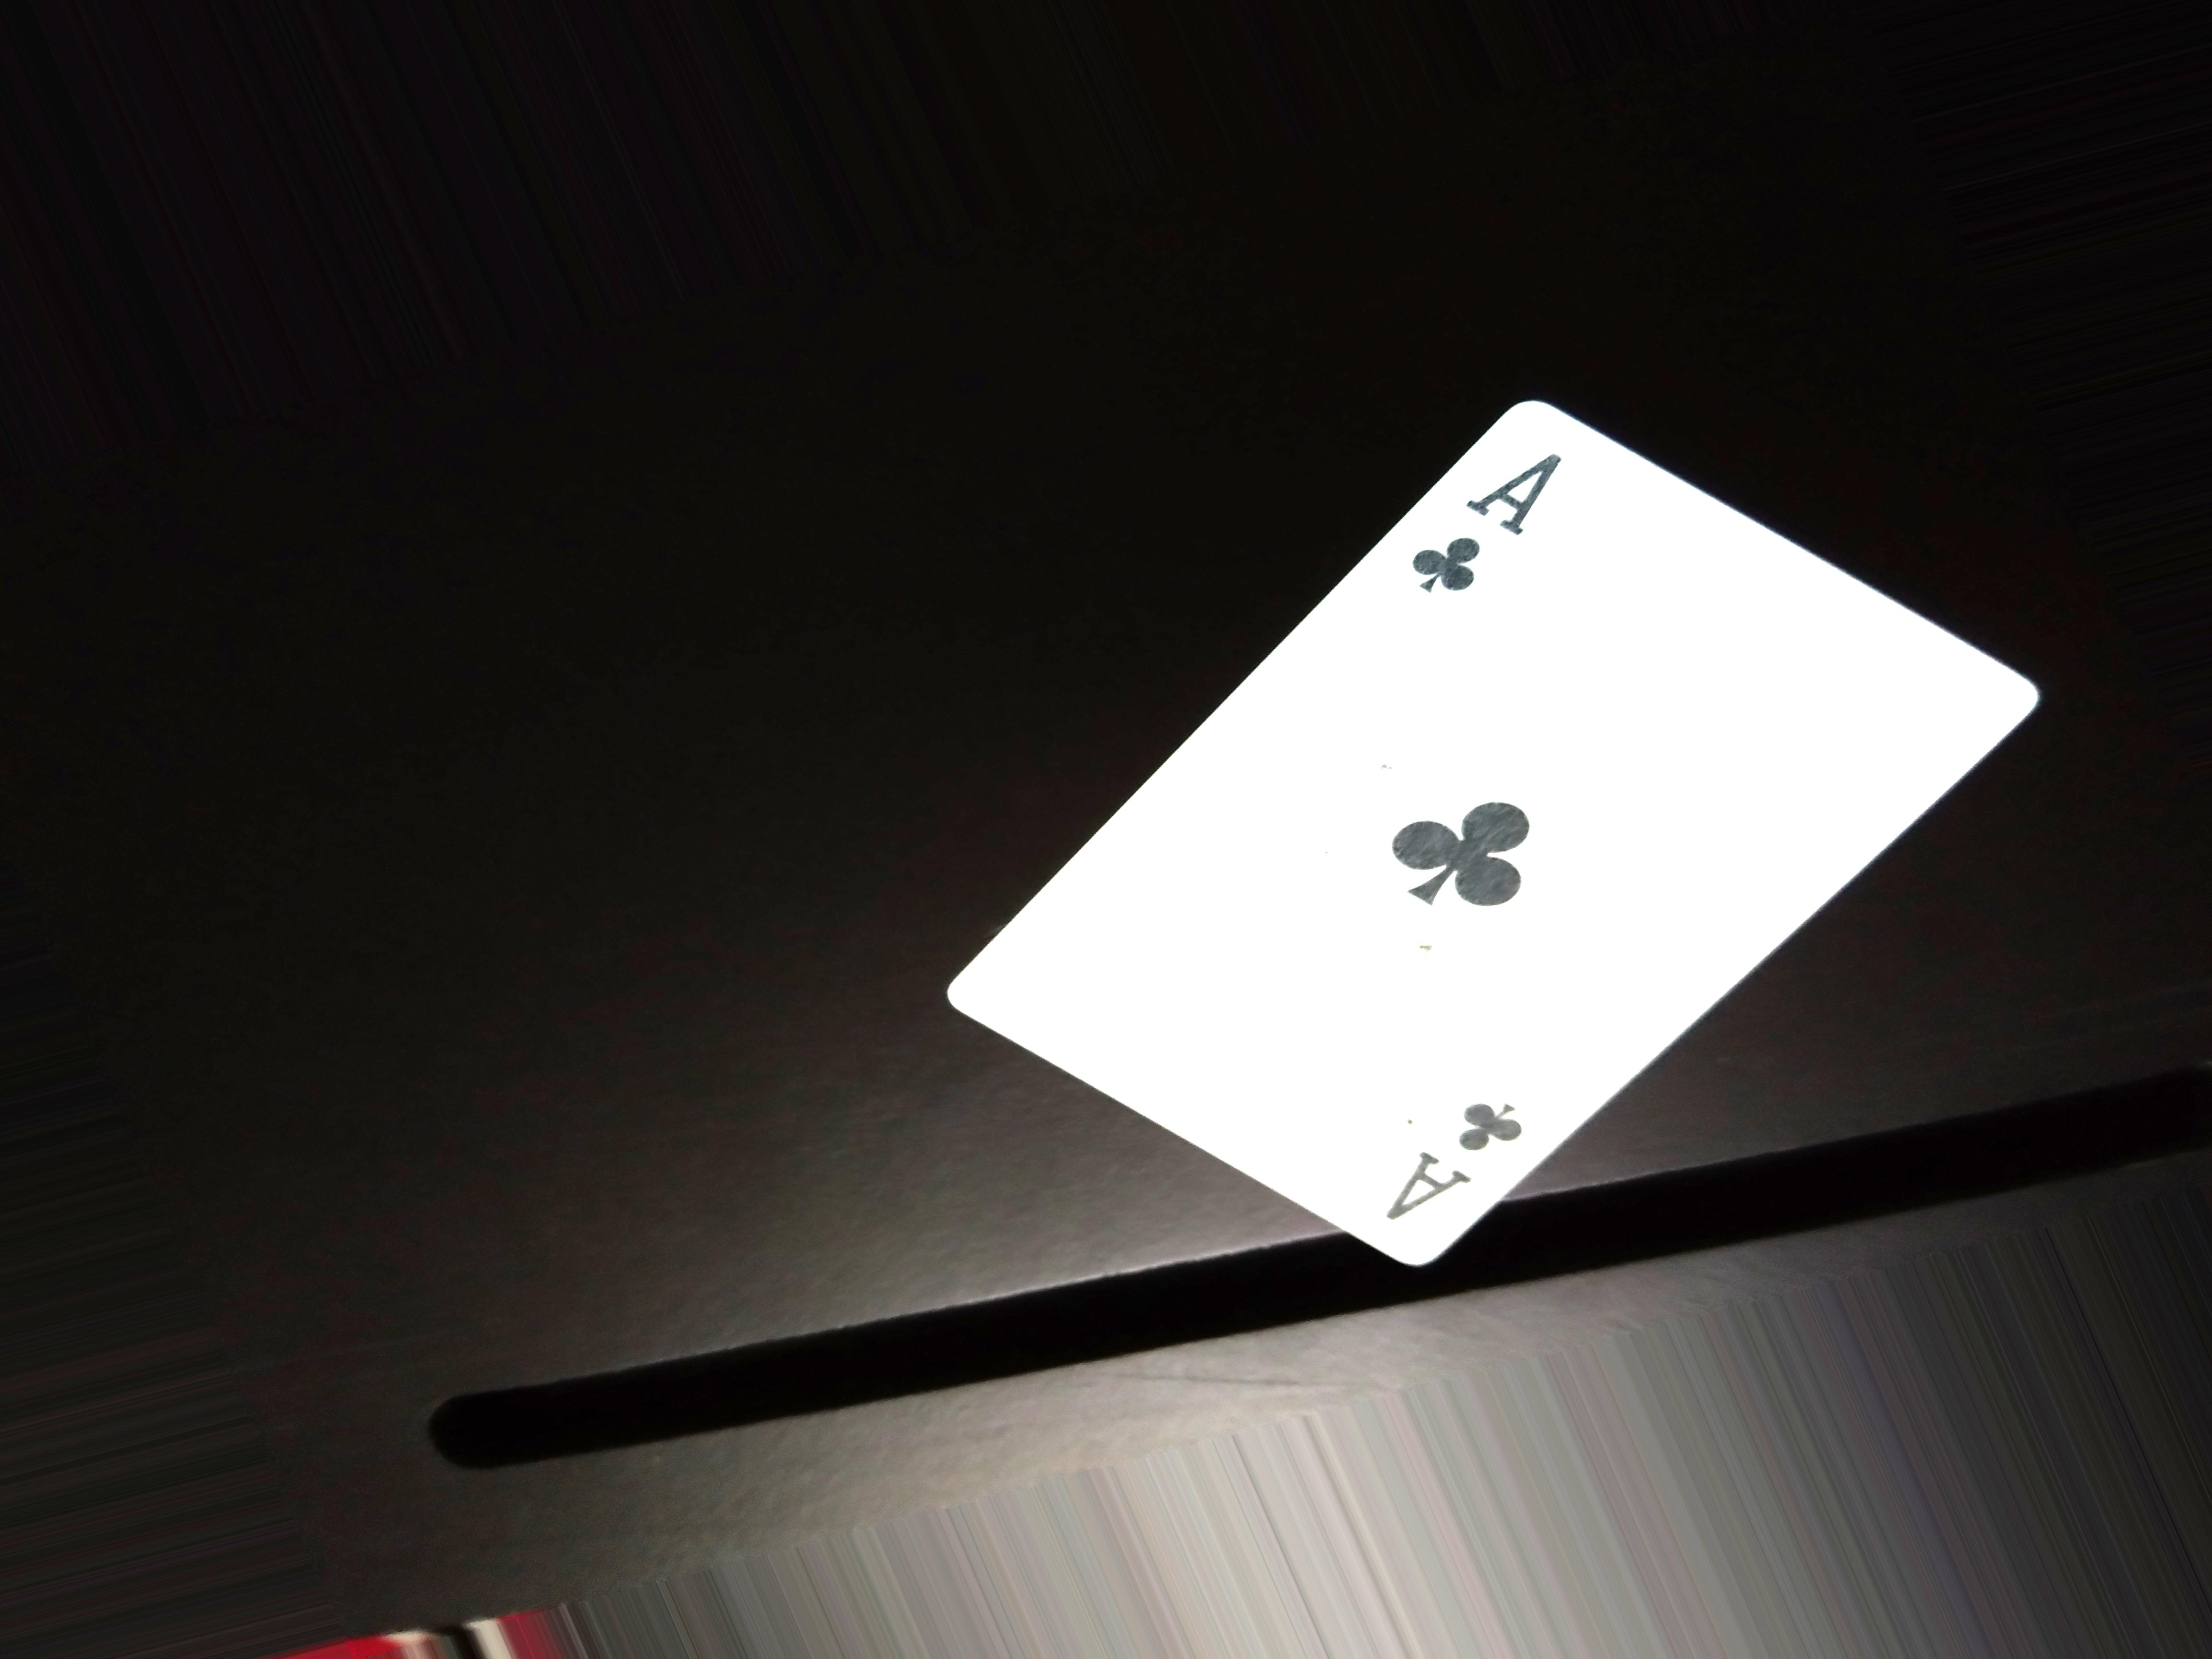AC: (1409, 434, 1562, 620)
